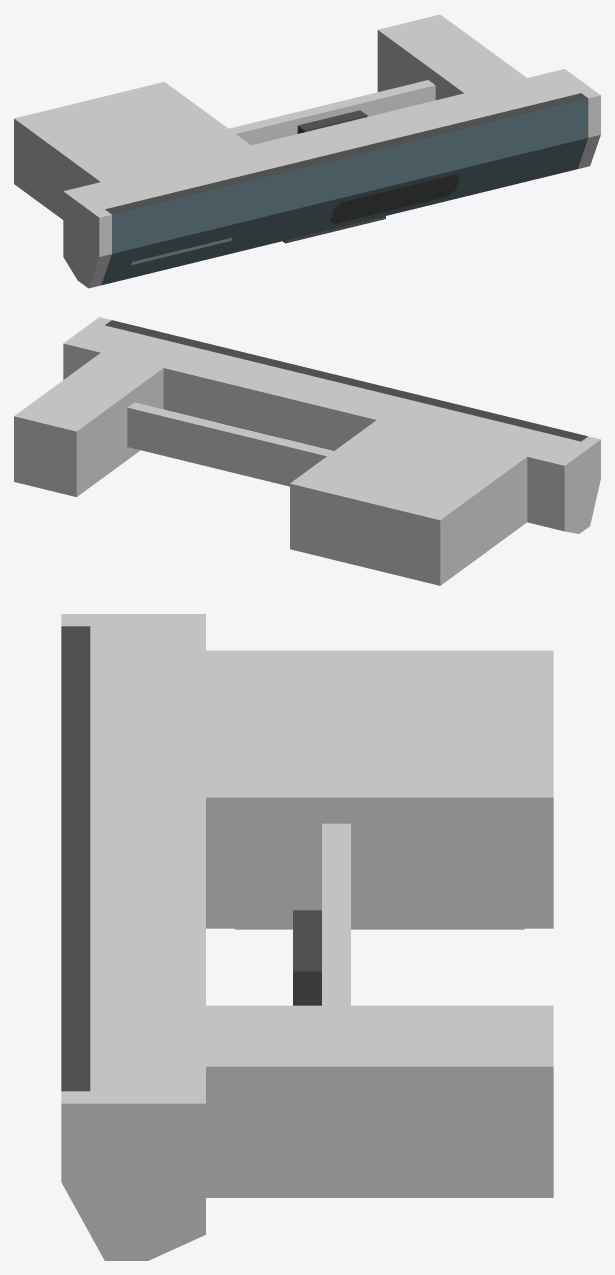
File: bar_feeder_2.dae
The picture shows the model from 3 angles, top to bottom: view 1: azimuth 30°, elevation 25°; view 2: azimuth 150°, elevation 25°; view 3: azimuth 270°, elevation 25°; orthographic projection. The views are drawn at different scales.
Parts seen in each view (by area): view 1: coords_ME_ID11_MA_material_8, coords_ME_ID45_MA_material_16, coords_ME_ID39_MA_material_8, coords_ME_ID59_MA_material, coords_ME_ID71_MA_material, coords_ME_ID33_MA_material, coords_ME_ID3_MA_material, coords_ME_ID65_MA_material_8; view 2: coords_ME_ID11_MA_material_8, coords_ME_ID39_MA_material_8, coords_ME_ID59_MA_material; view 3: coords_ME_ID11_MA_material_8, coords_ME_ID59_MA_material, coords_ME_ID39_MA_material_8, coords_ME_ID33_MA_material.
Boxes of the visible parts, left/top/right/bottom form: coords_ME_ID11_MA_material_8: left=14, top=14, right=600, bottom=288; coords_ME_ID45_MA_material_16: left=101, top=98, right=588, bottom=285; coords_ME_ID39_MA_material_8: left=229, top=80, right=435, bottom=145; coords_ME_ID59_MA_material: left=105, top=93, right=587, bottom=214; coords_ME_ID71_MA_material: left=330, top=174, right=459, bottom=223; coords_ME_ID33_MA_material: left=297, top=110, right=367, bottom=133; coords_ME_ID3_MA_material: left=283, top=216, right=385, bottom=243; coords_ME_ID65_MA_material_8: left=131, top=237, right=232, bottom=265; coords_ME_ID11_MA_material_8: left=14, top=317, right=600, bottom=585; coords_ME_ID39_MA_material_8: left=127, top=402, right=333, bottom=486; coords_ME_ID59_MA_material: left=105, top=320, right=587, bottom=441; coords_ME_ID11_MA_material_8: left=61, top=614, right=553, bottom=1260; coords_ME_ID59_MA_material: left=61, top=626, right=90, bottom=1091; coords_ME_ID39_MA_material_8: left=322, top=823, right=350, bottom=1005; coords_ME_ID33_MA_material: left=293, top=910, right=321, bottom=1005.
Bounding box in the file's own units: 28.35 × 4.61 × 12.05.
